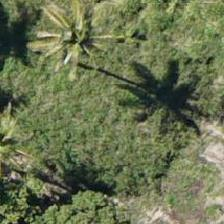coconut_tree: (1, 0, 91, 85)
